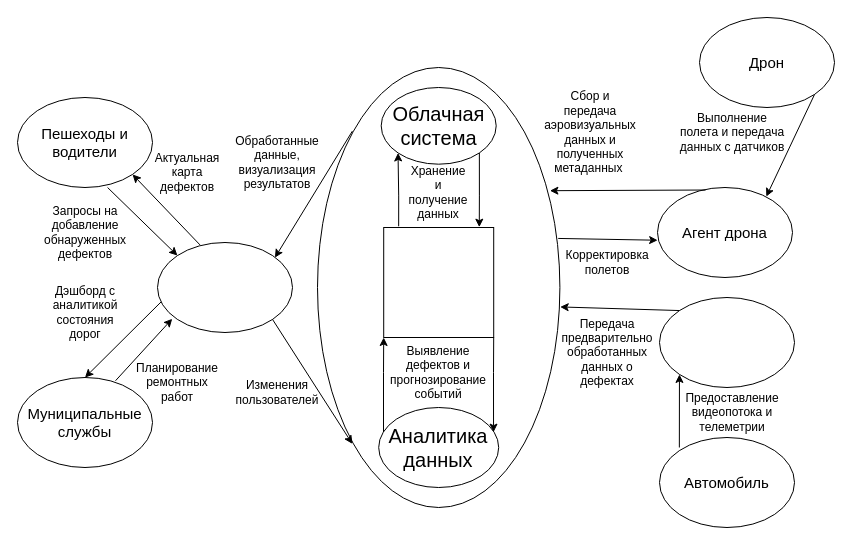
The diagram is 852 pixels wide and 545 high, and some of its shapes have lost their labels. The centre of each missing label's shape, as x and y in pixels:
Автомобильный агент: the point at 726,342
Агент приложения: the point at 224,287
Система мониторинга дорожного покрытия: the point at 438,282
